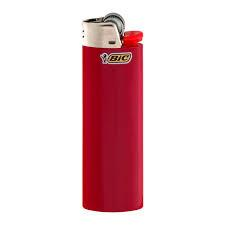lighter: (79, 11, 144, 212)
